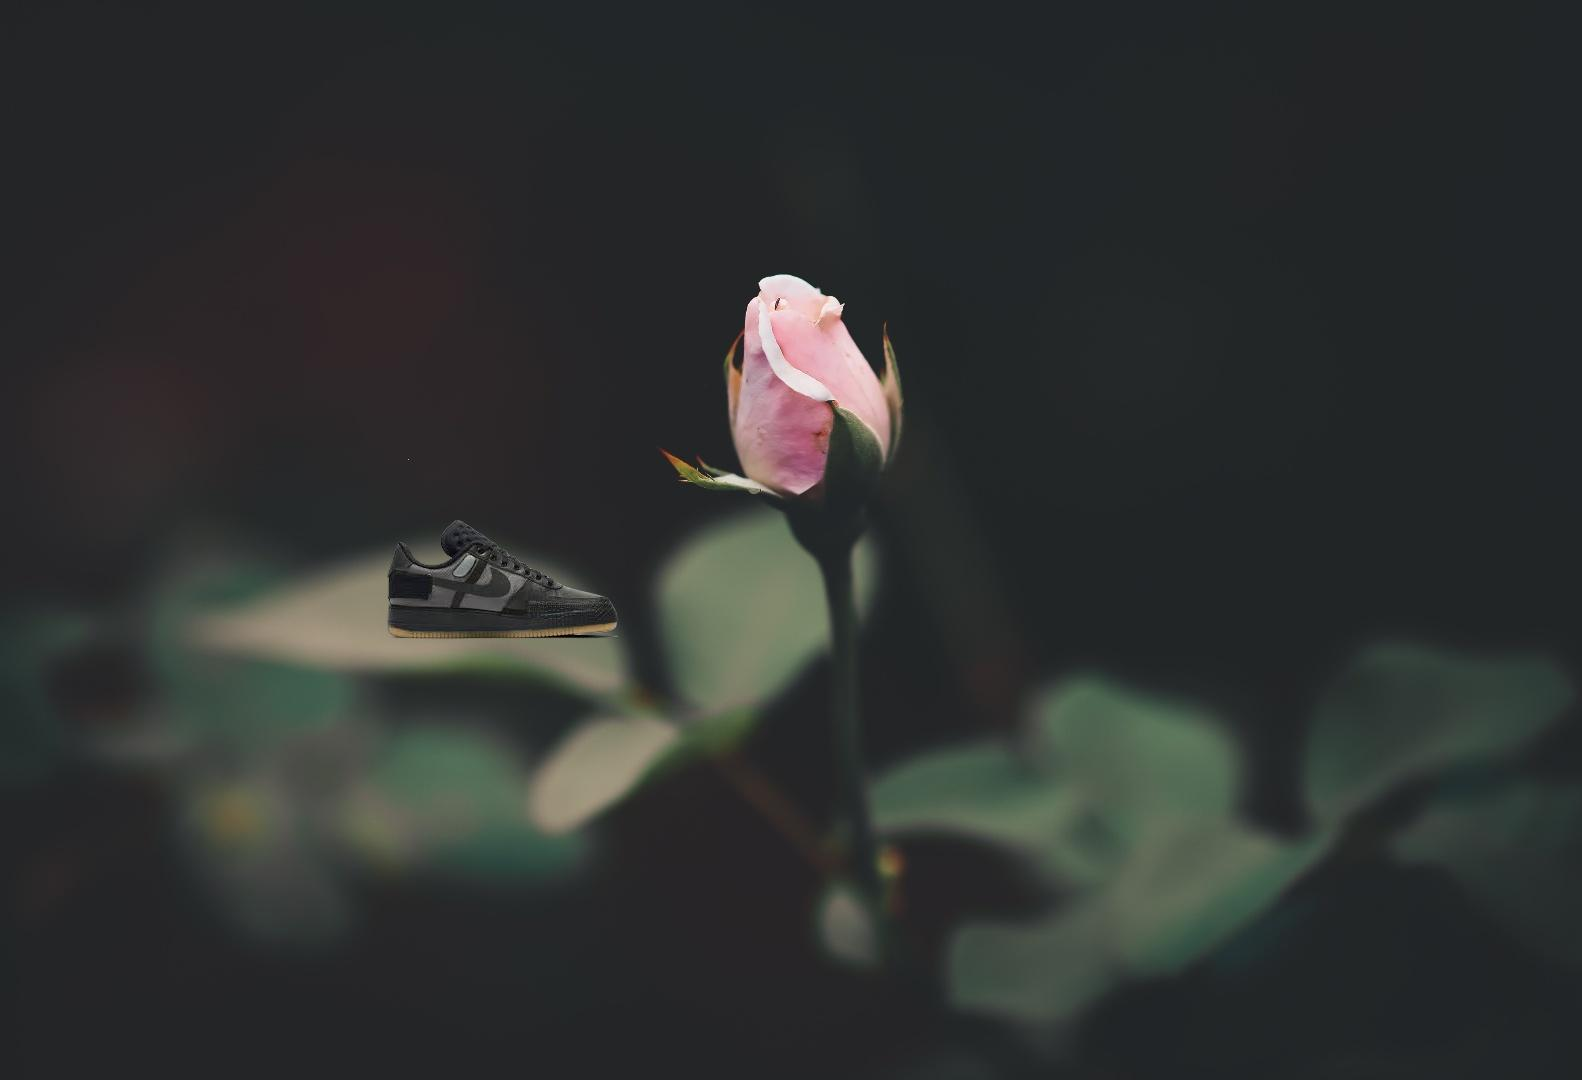shoes: (385, 517, 621, 641)
